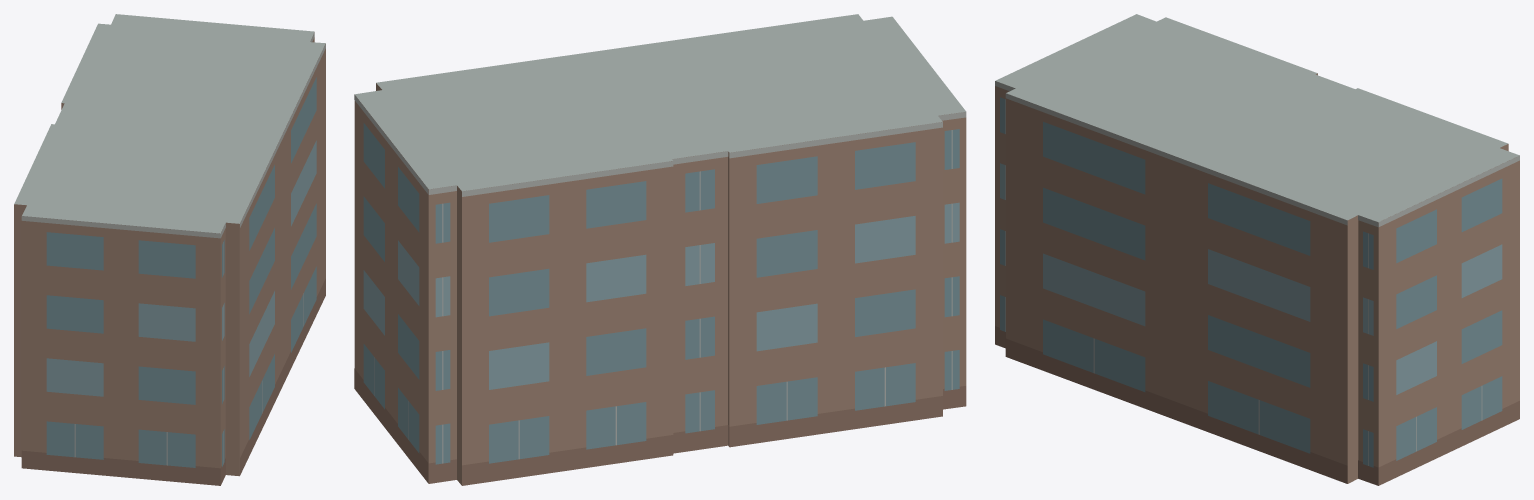
The model's file is survey-upis-32924471.glb.
3 renders of one model, left to right at view 1: azimuth 30°, elevation 25°; view 2: azimuth 150°, elevation 25°; view 3: azimuth 270°, elevation 25°, orthographic. The views are drawn at different scales.
Visible parts, largest first — view 1: survey-upis-32924471.tmp; view 2: survey-upis-32924471.tmp; view 3: survey-upis-32924471.tmp.
Part boxes in pixels (<box>): survey-upis-32924471.tmp: <box>14,14,325,485</box>; survey-upis-32924471.tmp: <box>354,14,966,485</box>; survey-upis-32924471.tmp: <box>995,14,1519,485</box>.
Size of the model in its own units: 21.44 by 12.65 by 22.83.
